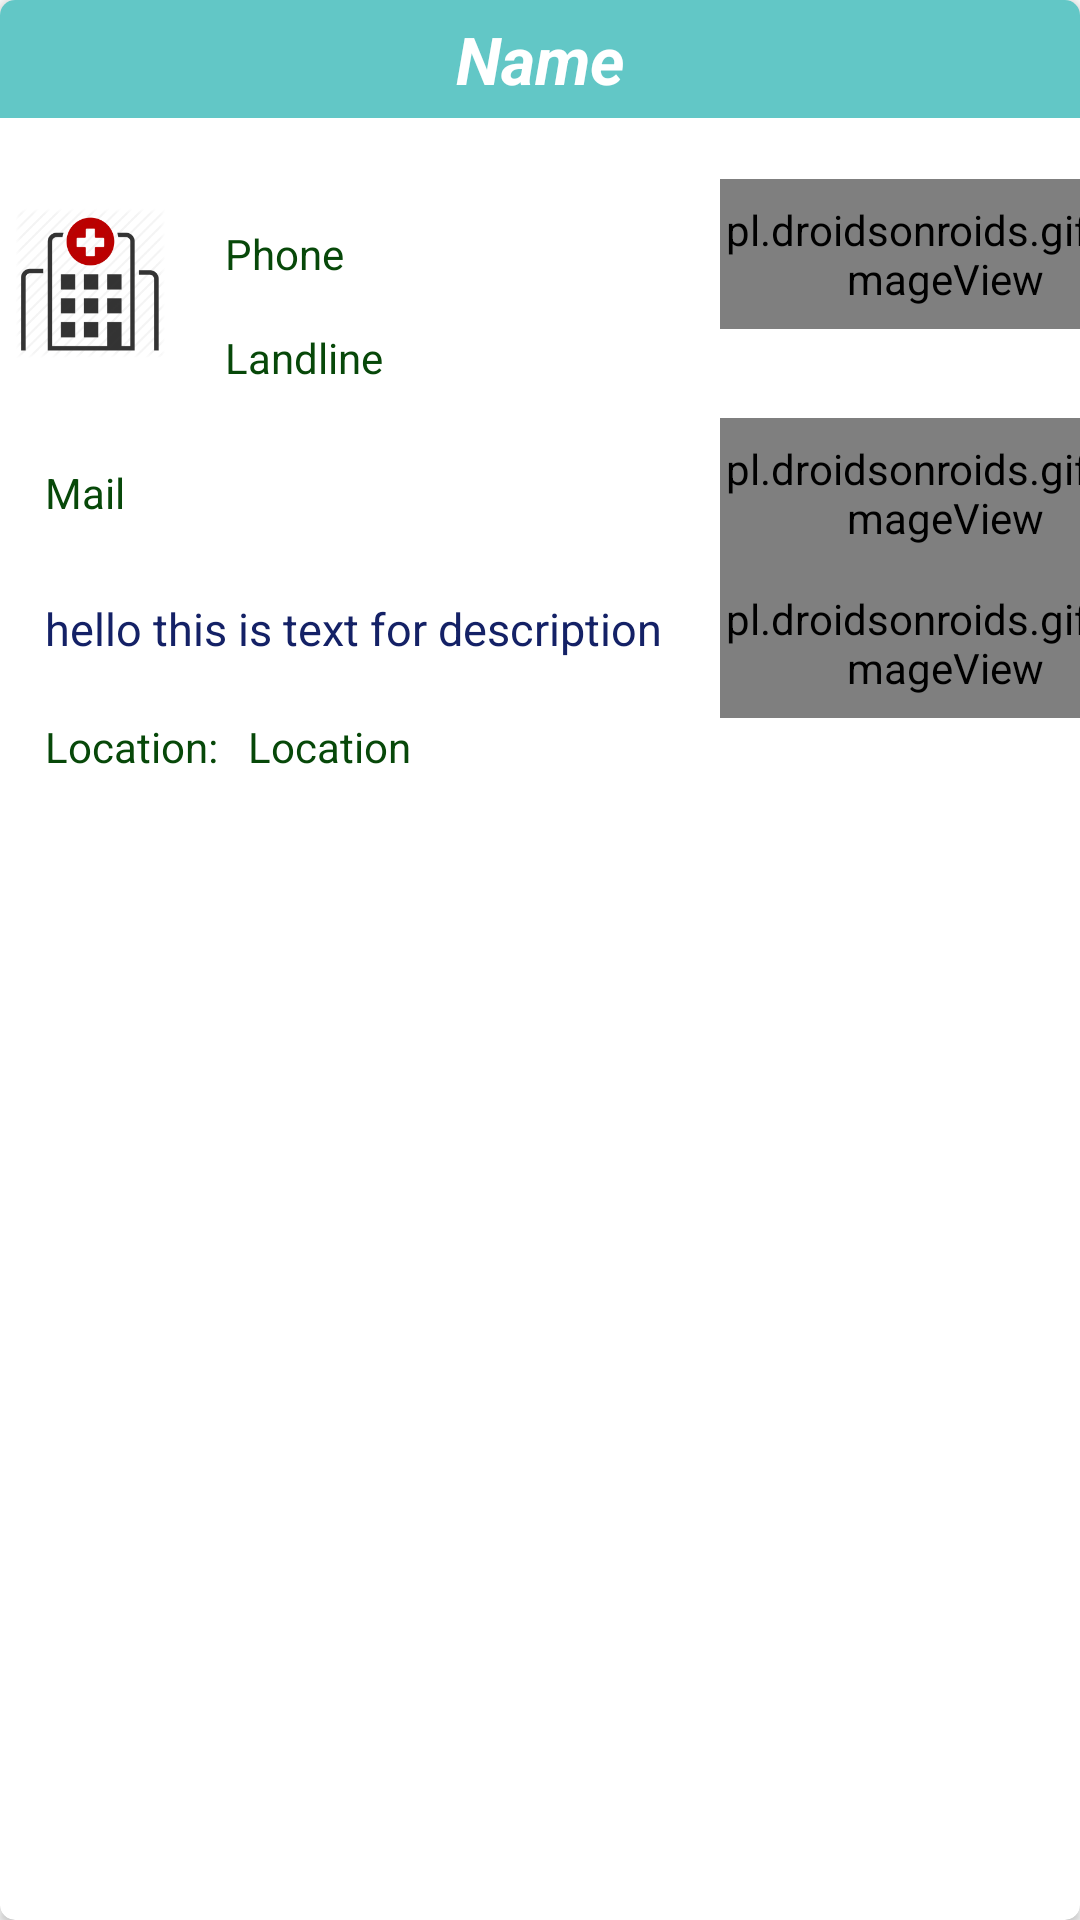

Icon click points for this 1080px×1920px phone screenshot, format [x,y]:
hospitals: [90,284]
